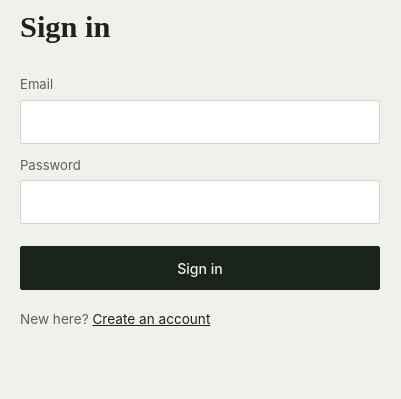
Scenario: LoginPage validation › rejects a submission with a password but no email
Type "correct-horse" into the password field labelled "Password". click: coordinates (200, 202)
box: [20,180,380,224]
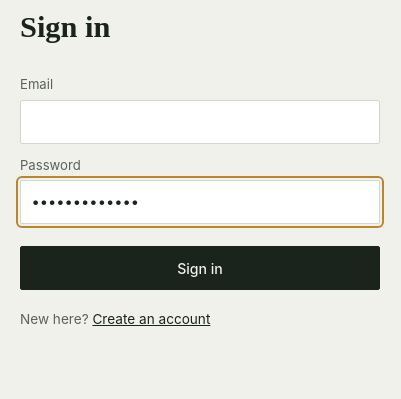
Click the button "Sign in". click: coordinates (200, 268)
box: [20,246,380,290]
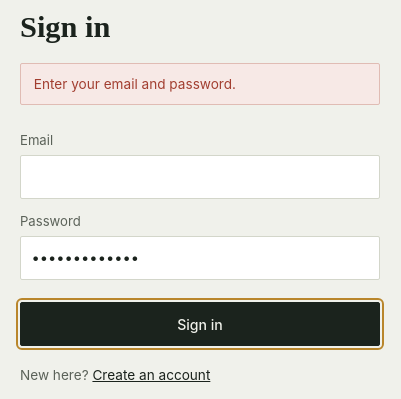
expect the message reads "Enter your email and password.": met, box [34,76,236,92]
